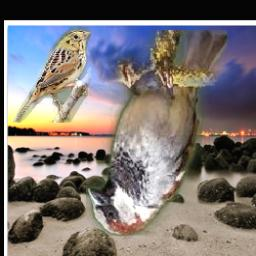Sparrow: (86, 31, 227, 237), (11, 28, 92, 124)
